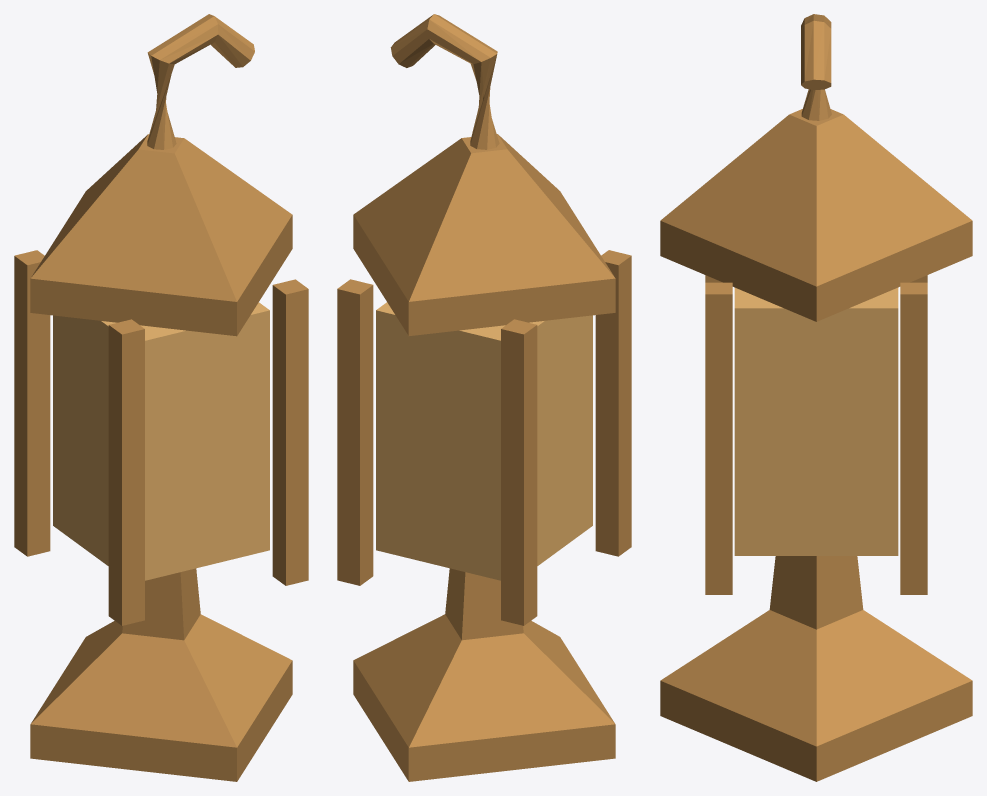
The model's file is Lantern.obj.
The picture shows the model from 3 angles, left to right: view 1: azimuth 30°, elevation 25°; view 2: azimuth 150°, elevation 25°; view 3: azimuth 270°, elevation 25°; orthographic projection. The views are drawn at different scales.
Parts seen in each view (by area): view 1: Lantern; view 2: Lantern; view 3: Lantern.
Part boxes in pixels (x1,y1,x2,y2): Lantern: (14, 14, 308, 781); Lantern: (337, 14, 631, 781); Lantern: (660, 14, 972, 781).
Bounding box in the file's own units: 0.8 × 2.04 × 0.8.
